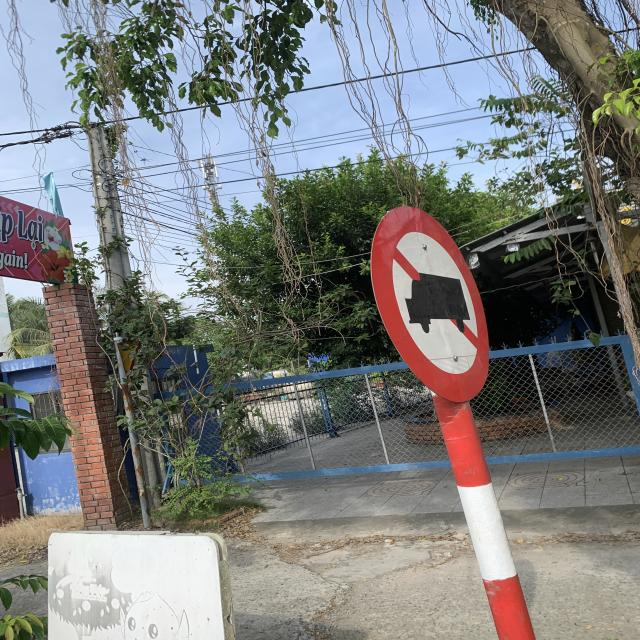Cam_Xe_Tai: (373, 202, 492, 404)
